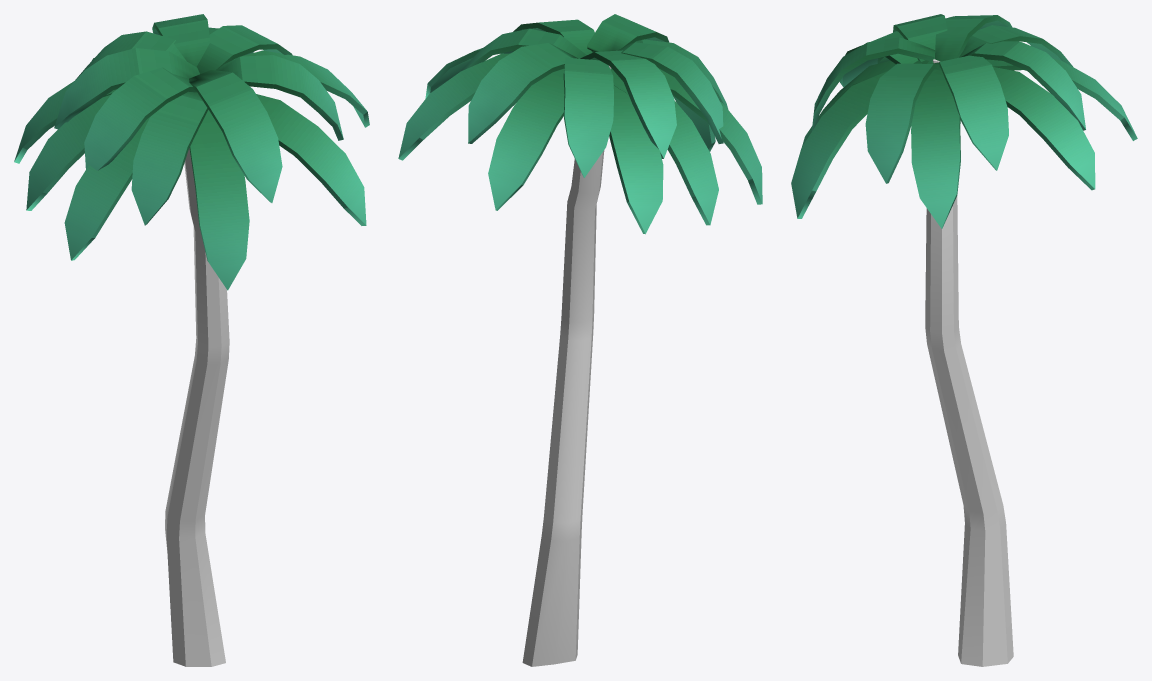
File: KM_PalmTree3.FBX
3 views of the same model, side by side, from view 1: azimuth 30°, elevation 25°; view 2: azimuth 150°, elevation 25°; view 3: azimuth 270°, elevation 25° (orthographic). The views are drawn at different scales.
Parts seen in each view (by area): view 1: Coconut_tree_trunk_003, Coconut_tree_003; view 2: Coconut_tree_trunk_003, Coconut_tree_003; view 3: Coconut_tree_trunk_003, Coconut_tree_003.
Boxes of the visible parts, box(x1,y1,x2,y2) form: Coconut_tree_trunk_003: box(14, 14, 369, 290); Coconut_tree_003: box(165, 148, 229, 666); Coconut_tree_trunk_003: box(398, 14, 762, 234); Coconut_tree_003: box(522, 66, 611, 666); Coconut_tree_trunk_003: box(791, 14, 1137, 228); Coconut_tree_003: box(925, 59, 1013, 666).
Bounding box in the file's own units: 1.03 × 1.91 × 0.9862.
